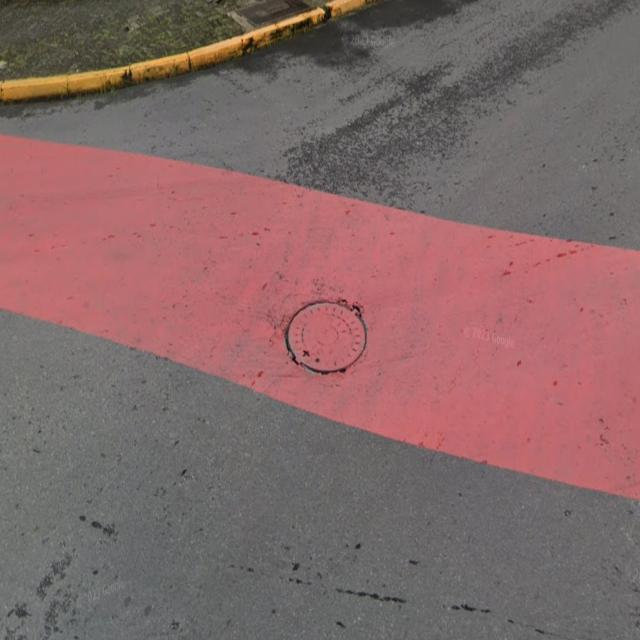Bueiro: (274, 272, 392, 395)
